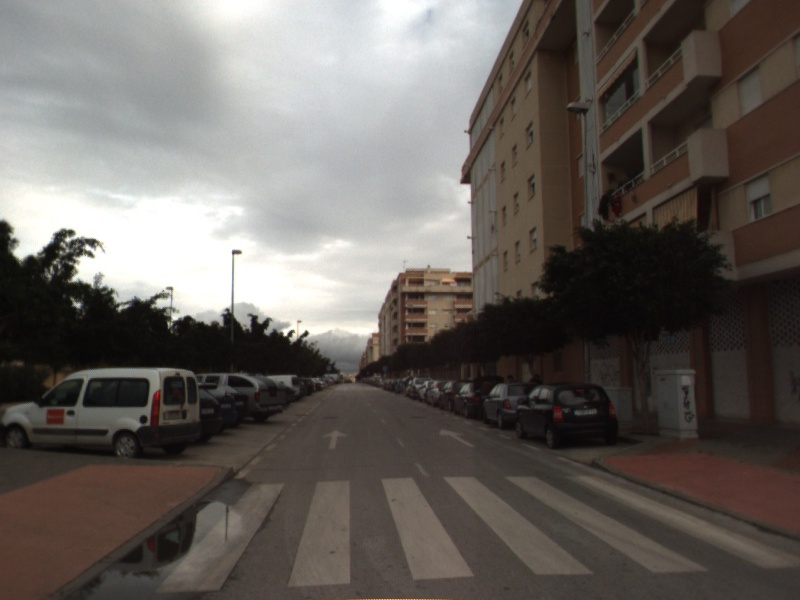STRAIGHT: (437, 427, 478, 449), (320, 427, 350, 451)
